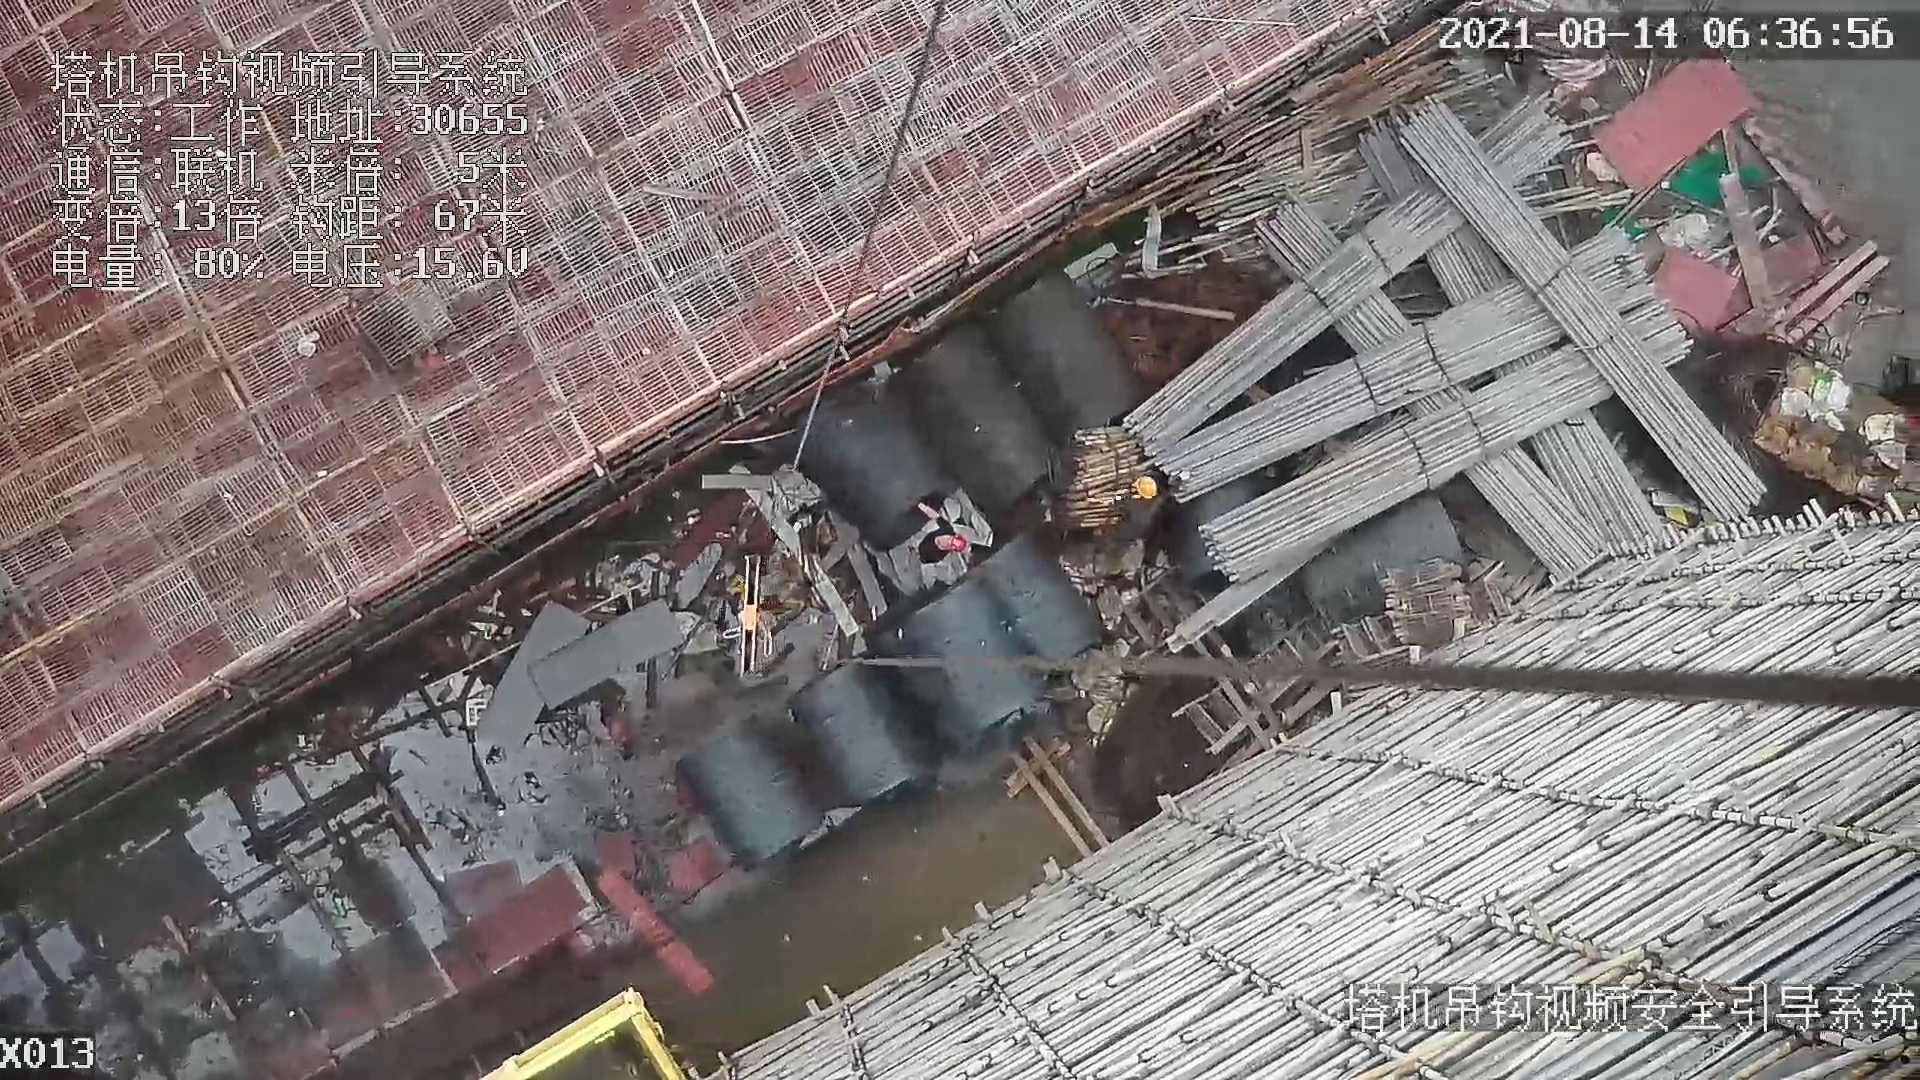helmet: (1130, 472, 1162, 502), (951, 530, 969, 558)
hook: (717, 551, 770, 681)
person: (1103, 476, 1191, 549), (913, 505, 970, 562)
scaffold: (1156, 121, 1763, 562), (1055, 418, 1162, 545)
